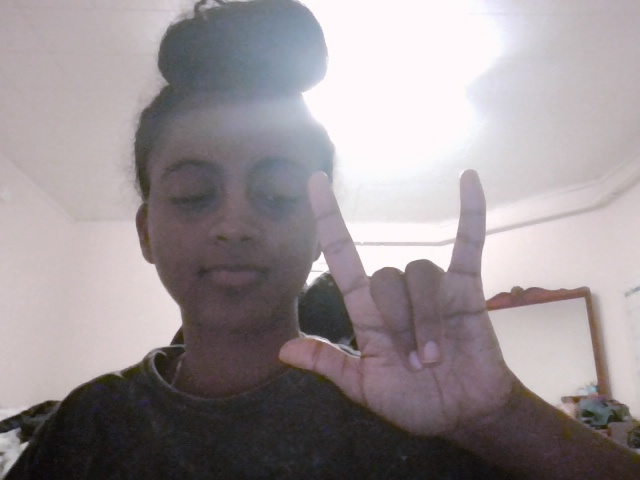ILoveYou: (274, 170, 521, 445)
